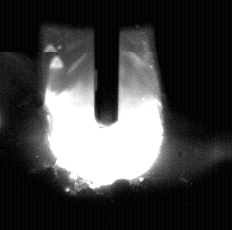arame: (95, 0, 120, 128)
poca: (47, 0, 163, 230)
